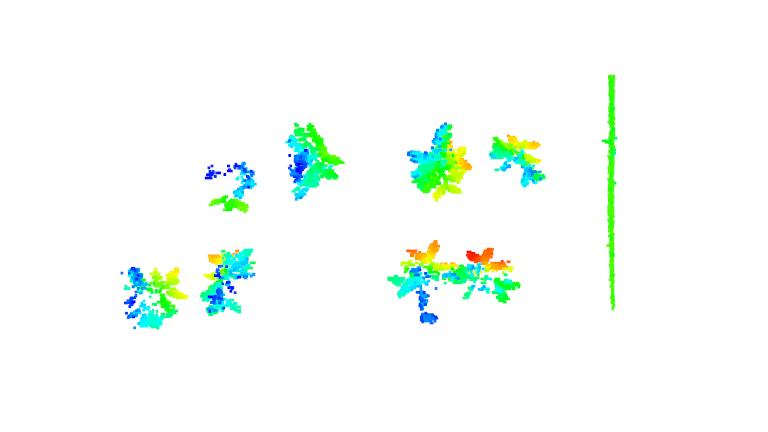chickpea: (384, 240, 461, 329), (402, 120, 473, 201), (281, 121, 346, 201), (121, 265, 189, 331), (447, 248, 524, 306), (200, 243, 256, 316), (488, 131, 547, 188), (206, 161, 258, 218)
